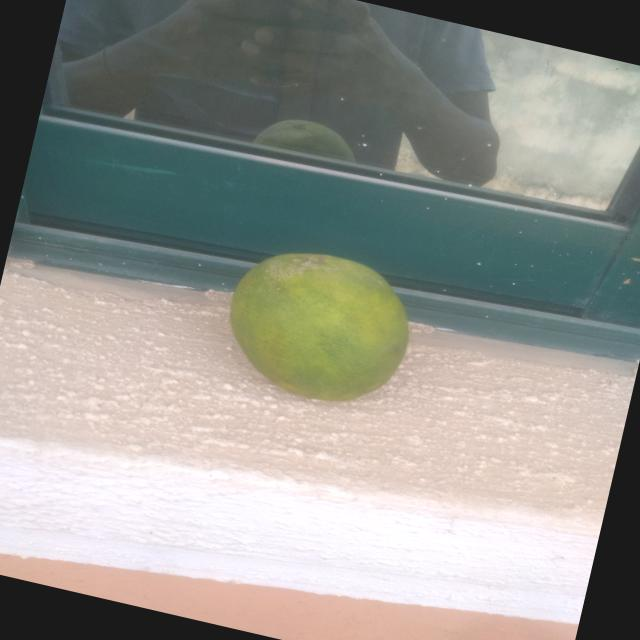Unripe: (157, 183, 446, 442)
